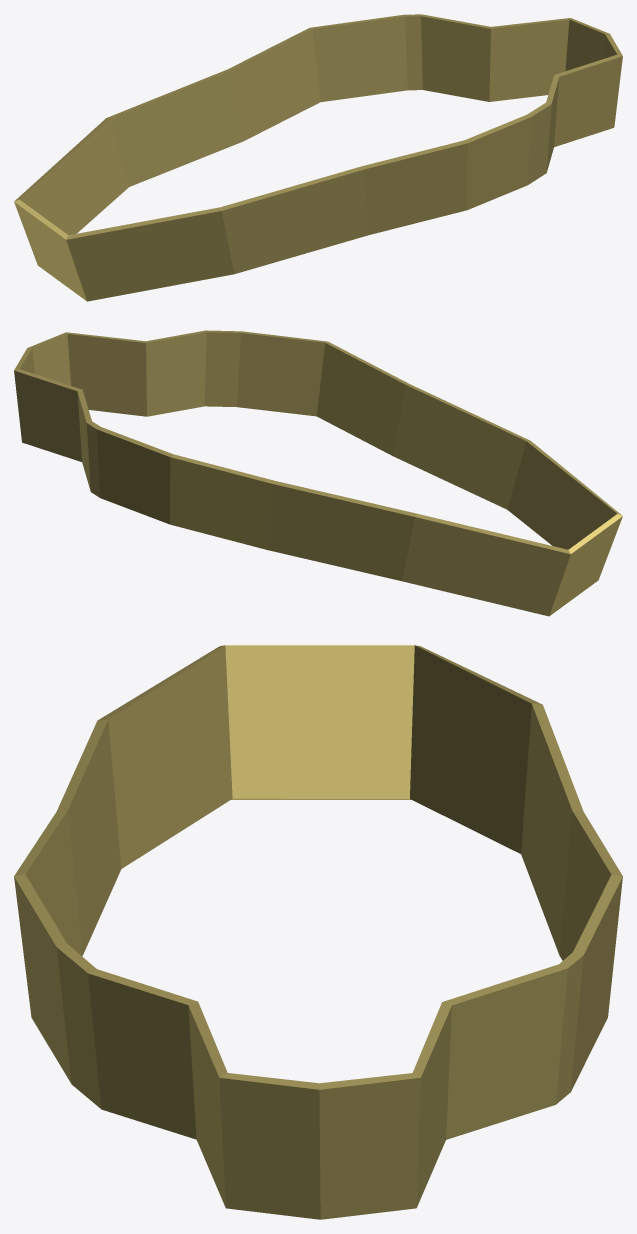
File: Collider Isla tuto.fbx
3 views of the same model, one above another, from view 1: azimuth 30°, elevation 25°; view 2: azimuth 150°, elevation 25°; view 3: azimuth 270°, elevation 25° (orthographic). The views are drawn at different scales.
Visible parts, largest first — view 1: ISLA.010; view 2: ISLA.010; view 3: ISLA.010.
Part boxes in pixels (x1=…): ISLA.010: x1=14, y1=14, x2=622, y2=301; ISLA.010: x1=14, y1=330, x2=622, y2=616; ISLA.010: x1=14, y1=645, x2=622, y2=1219.
Bounding box in the file's own units: 7443 × 1499 × 3573.
